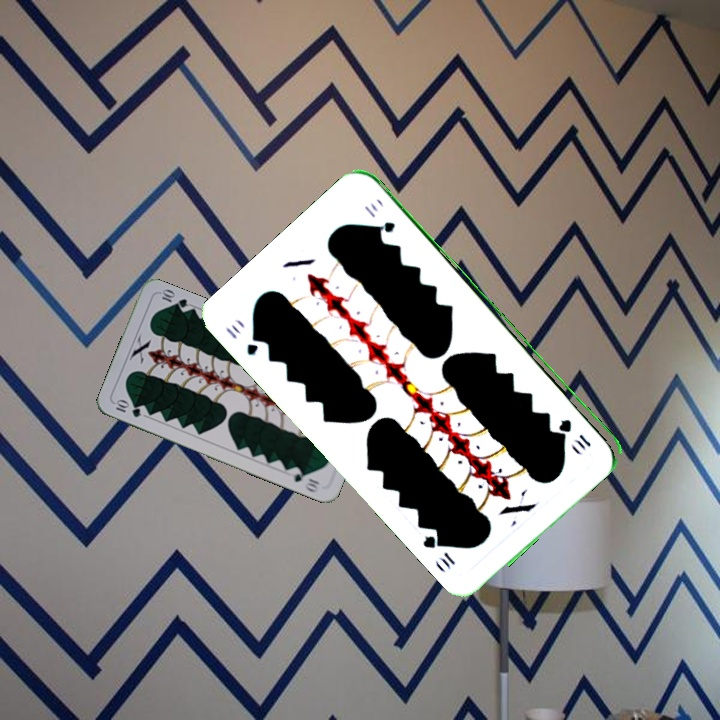G10: (221, 322, 265, 358), (556, 414, 594, 450), (111, 396, 144, 420)
